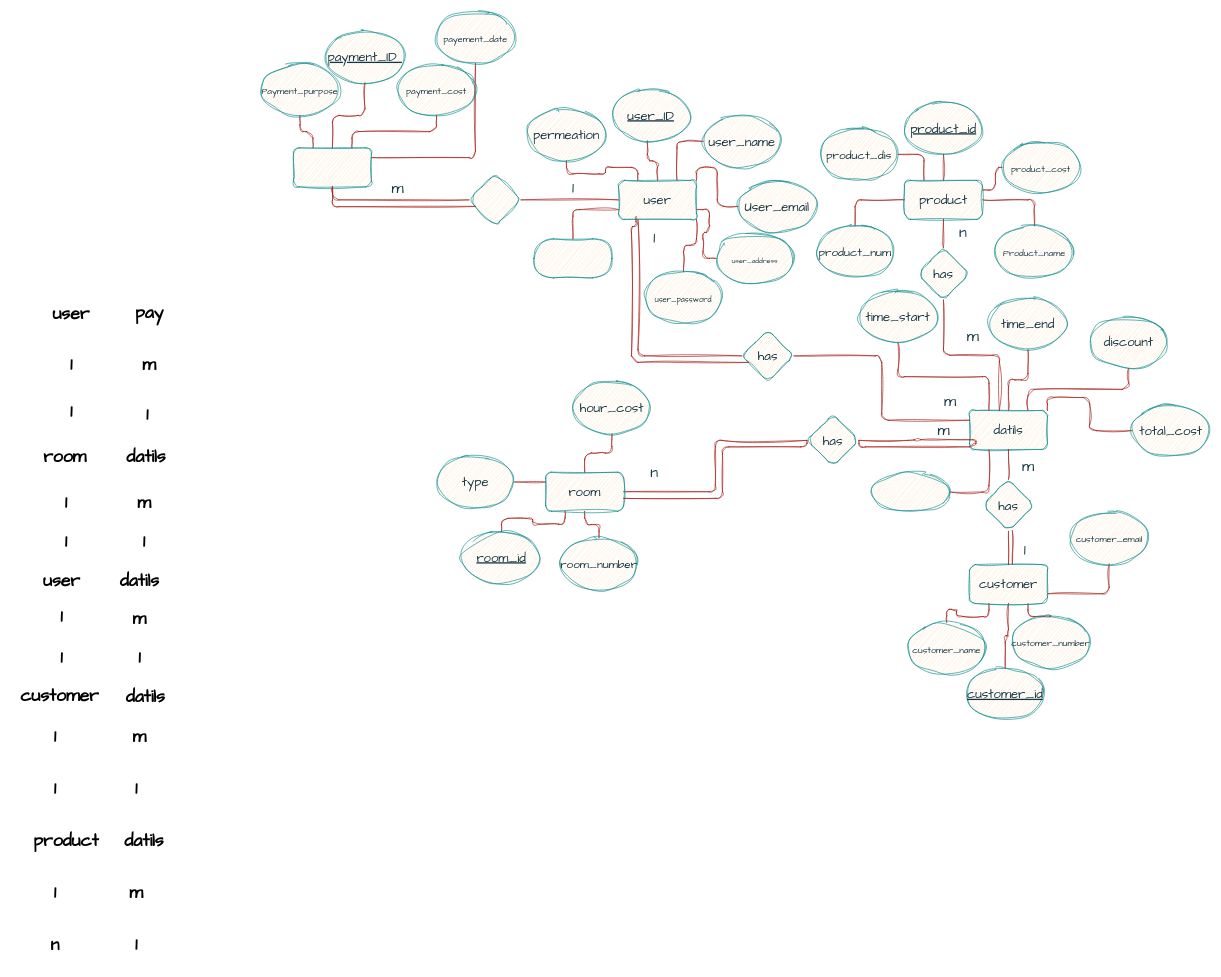
The diagram is 1221 pixels wide and 977 high, and some of its shapes have lost their labels. Each missing label, with the centre of its shape:
"dat_id" goes at [910,492].
"do" goes at [494,199].
"payment" goes at [332,167].
"SSN" goes at [572,258].
